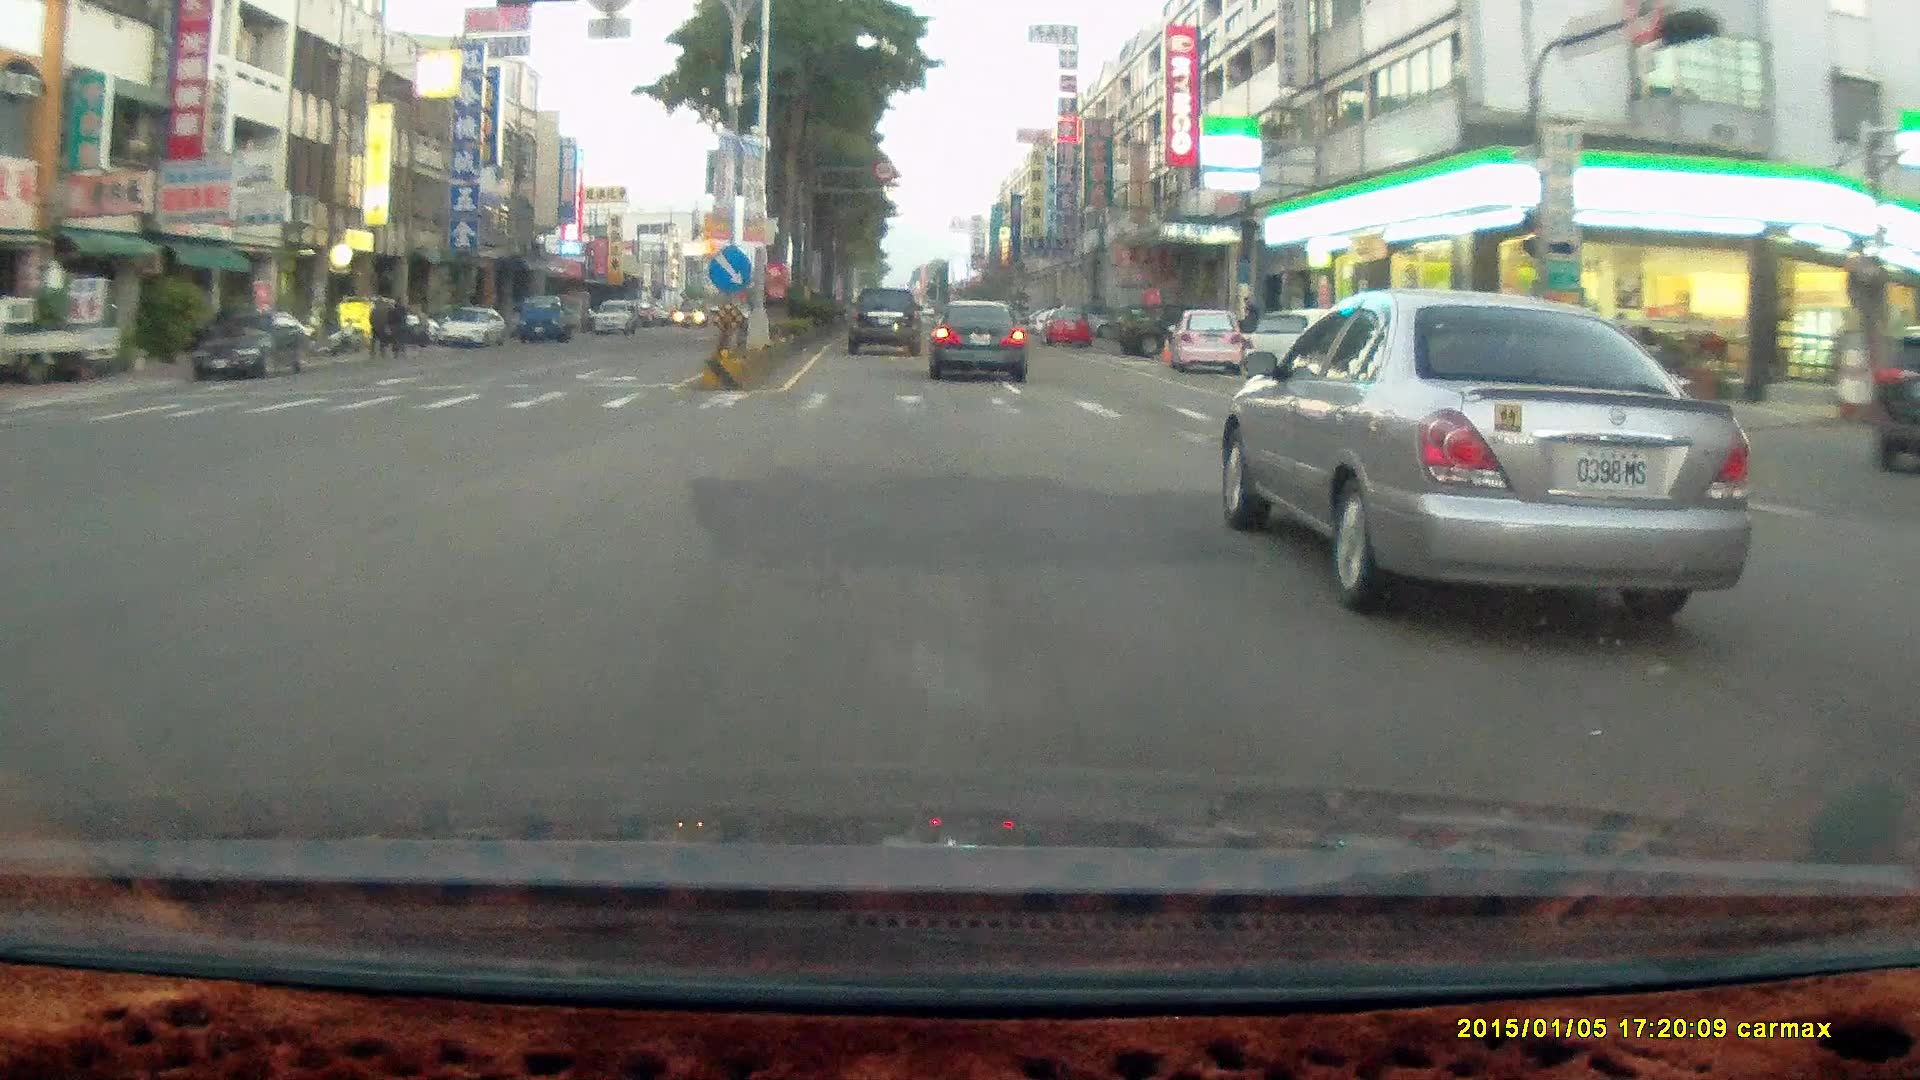pedestrian: (383, 289, 411, 355), (385, 294, 409, 363), (366, 294, 390, 360), (366, 292, 387, 358)
vehicle: (1227, 286, 1758, 626), (1340, 305, 1492, 411), (4, 296, 122, 388), (1242, 305, 1373, 387), (0, 295, 118, 385), (192, 311, 312, 382), (930, 297, 1026, 381), (192, 311, 313, 379), (932, 301, 1030, 380), (846, 286, 926, 358), (1169, 310, 1250, 379), (844, 285, 921, 355), (1166, 308, 1244, 373), (1115, 300, 1196, 356), (518, 294, 582, 342), (437, 308, 508, 351), (437, 305, 504, 346), (517, 291, 570, 340), (1039, 303, 1088, 344), (593, 296, 638, 332)
